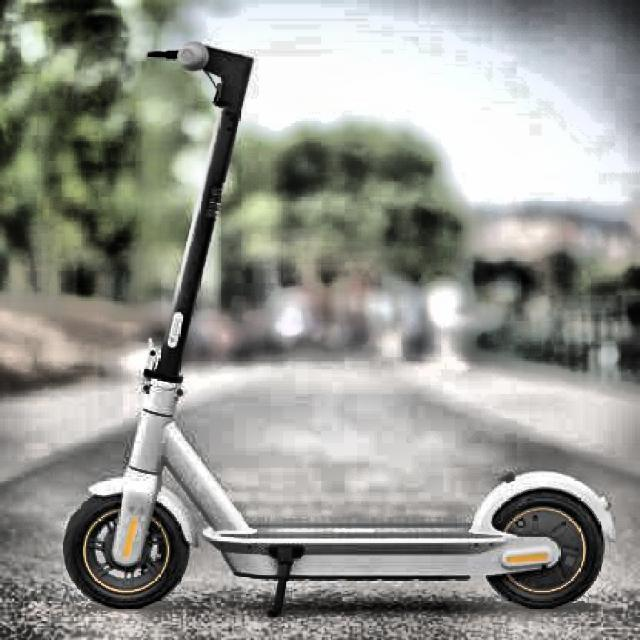bike: (63, 40, 634, 615)
